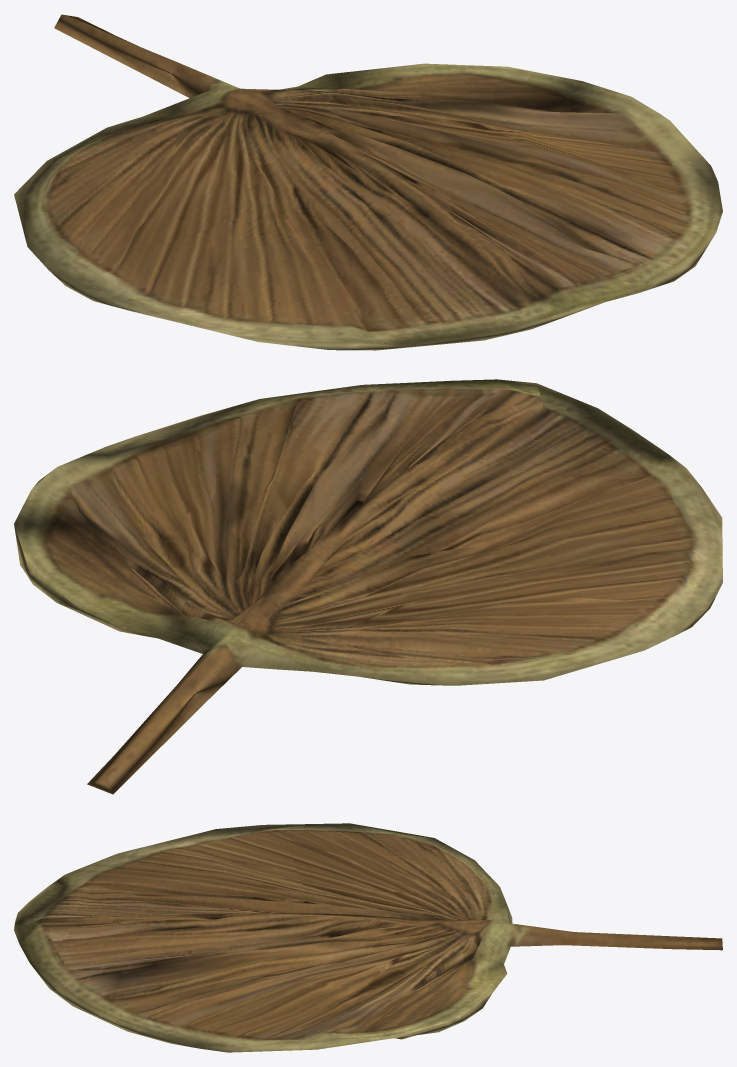
Rendered from Fan.obj.
3 views of the same model, one above another, from view 1: azimuth 30°, elevation 25°; view 2: azimuth 150°, elevation 25°; view 3: azimuth 270°, elevation 25° (orthographic). The views are drawn at different scales.
Visible parts, largest first — view 1: MDCNR74NJC01_LOD5(Clone)_Quality_16; view 2: MDCNR74NJC01_LOD5(Clone)_Quality_16; view 3: MDCNR74NJC01_LOD5(Clone)_Quality_16.
Part boxes in pixels (x1=…): MDCNR74NJC01_LOD5(Clone)_Quality_16: x1=14, y1=14, x2=722, y2=350; MDCNR74NJC01_LOD5(Clone)_Quality_16: x1=14, y1=379, x2=722, y2=794; MDCNR74NJC01_LOD5(Clone)_Quality_16: x1=14, y1=823, x2=722, y2=1052.
Bounding box in the file's own units: 2.46 × 0.2295 × 3.23.
